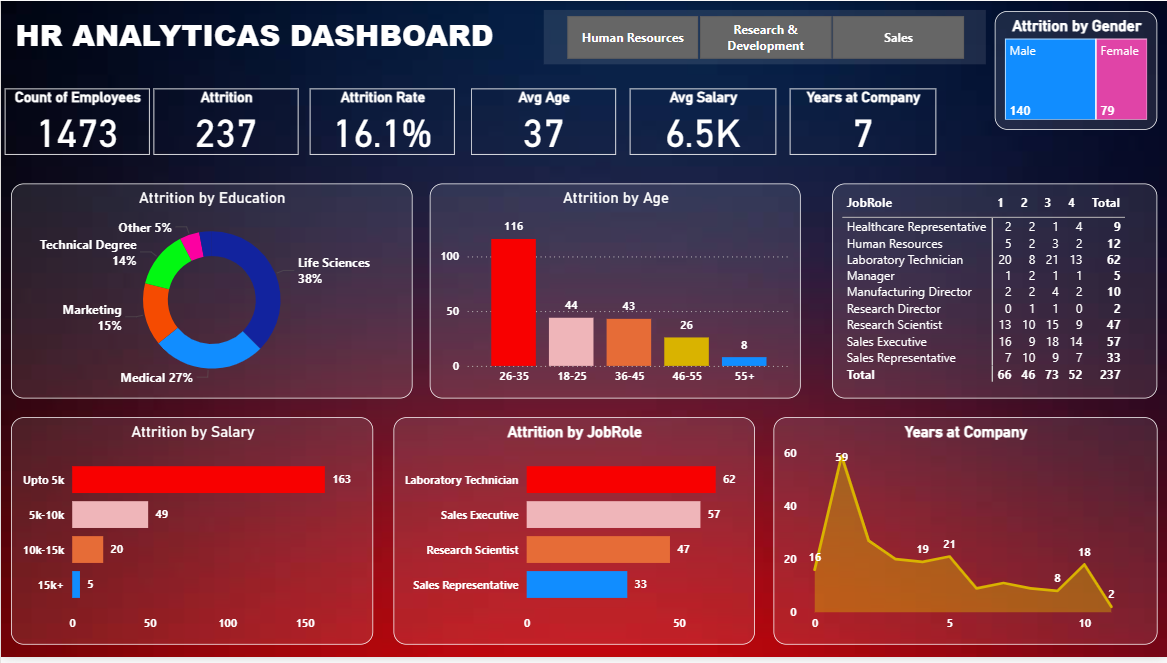

This screenshot's page, from the dashboard's own definition file:
{"tool":"powerbi","page":{"name":"Page 1","canvas":[1280,720],"ordinal":0},"visuals":[{"type":"card","title":"Count of Employees ","fields":{"Values":["CountNonNull(HR_Analytics.EmpID)"]},"box":[4.1,96.1,159.2,72.7],"z":0},{"type":"card","title":"Attrition","fields":{"Values":["Sum(HR_Analytics.AttritionCount)"]},"box":[167.4,96.1,159.2,72.7],"z":1000},{"type":"card","title":"Attrition Rate","fields":{"Values":["HR_Analytics.AttritionRate"]},"box":[338.9,96.1,159.2,72.7],"z":2000},{"type":"card","title":"Avg Age","fields":{"Values":["Avg(HR_Analytics.Age)"]},"box":[516,96.1,159.2,72.7],"z":3000},{"type":"card","title":"Avg Salary","fields":{"Values":["Avg(HR_Analytics.MonthlyIncome)"]},"box":[690.2,96.1,160.5,72.7],"z":4000},{"type":"card","title":"Years at Company","fields":{"Values":["Avg(HR_Analytics.YearsAtCompany)"]},"box":[865.9,96.1,160.5,72.7],"z":5000},{"type":"donutChart","title":"Attrition by Education","fields":{"Category":["HR_Analytics.EducationField"],"Y":["Sum(HR_Analytics.AttritionCount)"]},"box":[11,200.3,440.5,236],"z":6000},{"type":"columnChart","title":"Attrition by Age","fields":{"Category":["HR_Analytics.AgeGroup"],"Y":["Sum(HR_Analytics.AttritionCount)"]},"box":[470.7,200.3,407.5,236],"z":7000},{"type":"pivotTable","fields":{"Rows":["HR_Analytics.JobRole"],"Columns":["HR_Analytics.JobSatisfaction"],"Values":["Sum(HR_Analytics.AttritionCount)"]},"box":[912.5,200.3,356.8,236],"z":8000},{"type":"barChart","title":"Attrition by Salary","fields":{"Category":["HR_Analytics.SalarySlab"],"Y":["Sum(HR_Analytics.AttritionCount)"]},"box":[11,456.9,397.9,249.7],"z":9000},{"type":"barChart","title":"Attrition by JobRole","fields":{"Y":["Sum(HR_Analytics.AttritionCount)"],"Category":["HR_Analytics.JobRole"]},"box":[430.9,456.9,396.6,249.7],"z":9001},{"type":"areaChart","title":"Years at Company ","fields":{"Category":["HR_Analytics.YearsAtCompany"],"Y":["Sum(HR_Analytics.AttritionCount)"]},"box":[848,456.9,421.3,249.7],"z":9002},{"type":"treemap","title":"Attrition by Gender","fields":{"Group":["HR_Analytics.Gender"],"Values":["Sum(HR_Analytics.AttritionCount)"]},"box":[1090.9,11,178.4,130.4],"z":9003},{"type":"slicer","fields":{"Values":["HR_Analytics.Department"]},"box":[595.5,9.6,485.8,60.4],"z":9004},{"type":"textbox","box":[11,9.6,557.1,65.9],"z":9005}]}

Visuals, with their boxes in screenshot pixels (x1, y1, x2, y2), scaled from the page's 1280x720 canvas onto the 1167x663 screenshot:
"Count of Employees " card: 4/88/149/155
"Attrition" card: 153/88/298/155
"Attrition Rate" card: 309/88/454/155
"Avg Age" card: 470/88/616/155
"Avg Salary" card: 629/88/776/155
"Years at Company" card: 789/88/936/155
"Attrition by Education" donutChart: 10/184/412/402
"Attrition by Age" columnChart: 429/184/801/402
pivotTable - HR_Analytics.JobRole x HR_Analytics.JobSatisfaction: 832/184/1157/402
"Attrition by Salary" barChart: 10/421/373/651
"Attrition by JobRole" barChart: 393/421/754/651
"Years at Company " areaChart: 773/421/1157/651
"Attrition by Gender" treemap: 995/10/1157/130
slicer - HR_Analytics.Department: 543/9/986/64
textbox: 10/9/518/70
